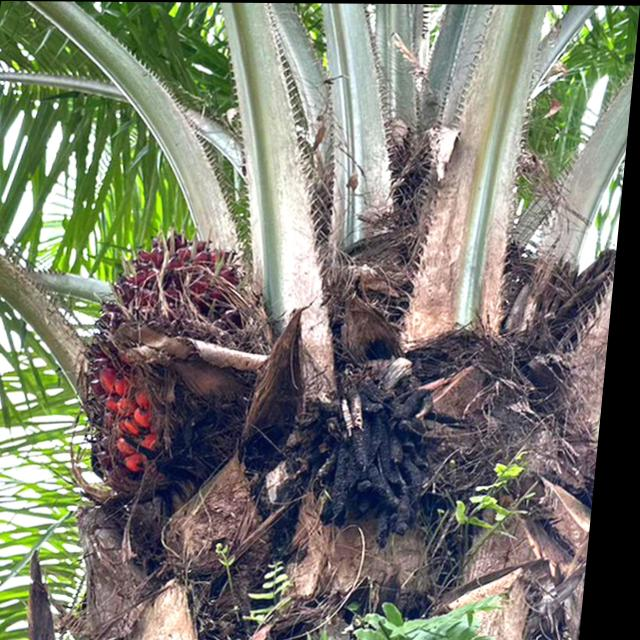ripe: (66, 215, 298, 507)
